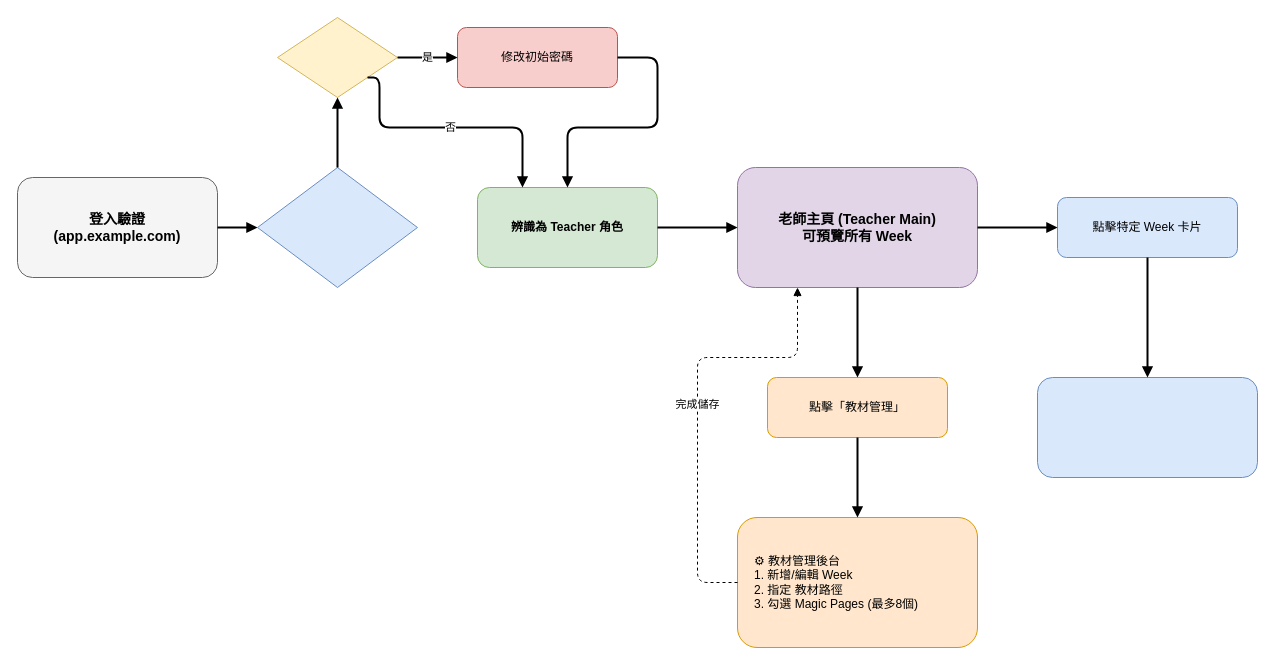
The diagram is 1275 pixels wide and 665 high, and some of its shapes have lost their labels. The shapes that lost their labels are listed below. From the top down, each one's centre as x and y in pixels, then its label:
pixel 337 57: 首次登入？
pixel 337 227: Cognito 驗證
pixel 1147 427: Week 詳情頁 1. 閱讀教學講義 2. 操作互動魔術網頁
